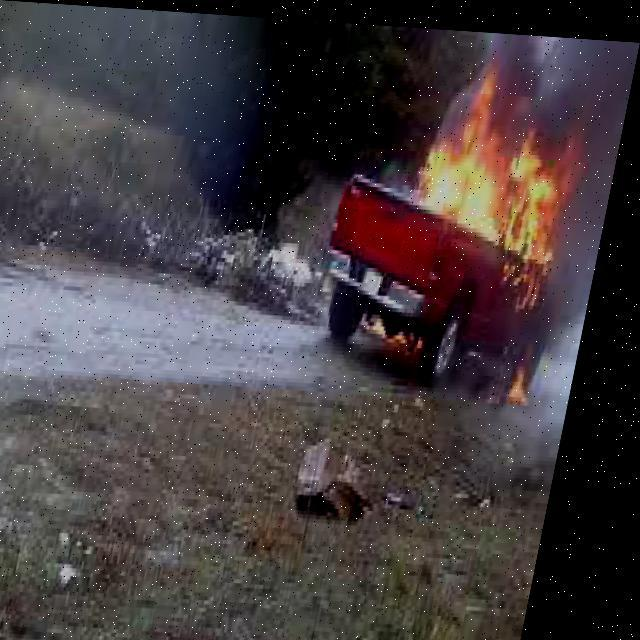Fire: (395, 62, 602, 298)
